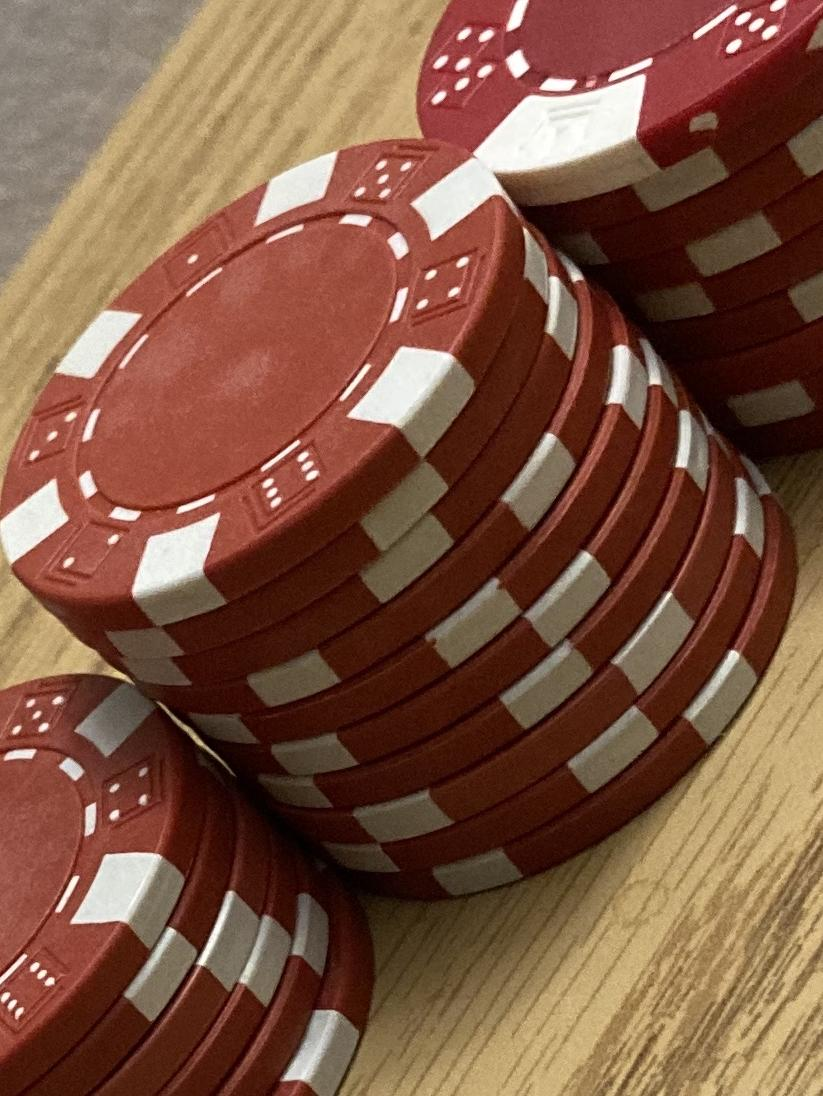Chip: (1, 1, 823, 1096)
